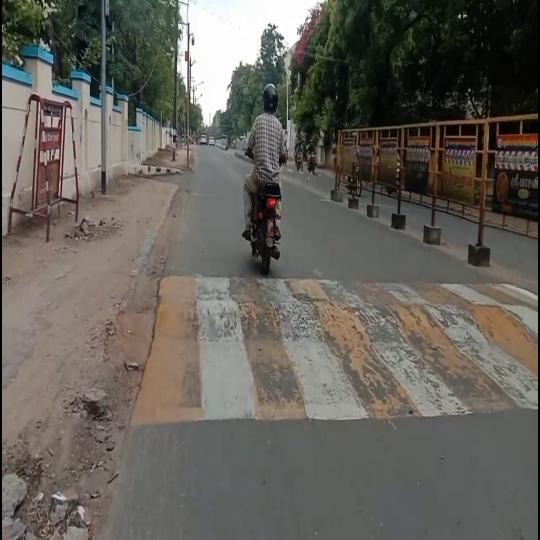Speed Bump: (129, 274, 538, 424)
